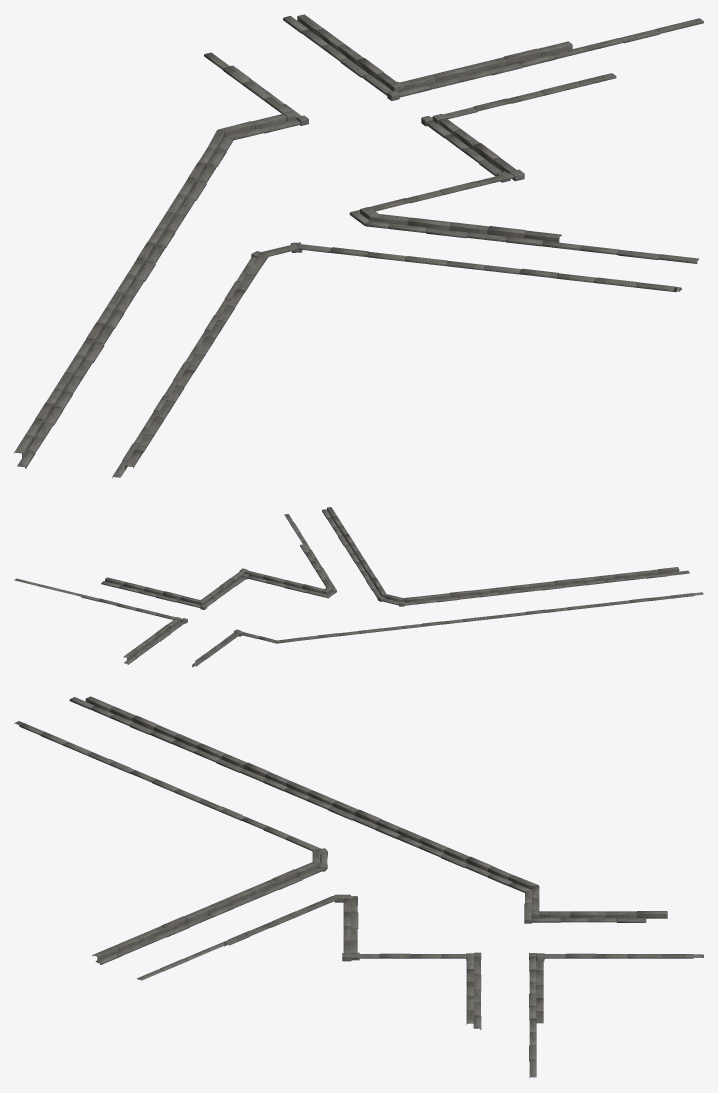
File: SM_ENV_LKNVLD_Ground_Right_SideTrimOuter_02.FBX
3 renders of one model, top to bottom at view 1: azimuth 30°, elevation 25°; view 2: azimuth 150°, elevation 25°; view 3: azimuth 270°, elevation 25°, orthographic. The views are drawn at different scales.
Parts seen in each view (by area): view 1: SM_ENV_LKNVLD_Ground_Right_SideTrimOuter_02; view 2: SM_ENV_LKNVLD_Ground_Right_SideTrimOuter_02; view 3: SM_ENV_LKNVLD_Ground_Right_SideTrimOuter_02.
Part boxes in pixels (<box>): SM_ENV_LKNVLD_Ground_Right_SideTrimOuter_02: <box>14,14,703,478</box>; SM_ENV_LKNVLD_Ground_Right_SideTrimOuter_02: <box>14,507,703,667</box>; SM_ENV_LKNVLD_Ground_Right_SideTrimOuter_02: <box>14,696,703,1077</box>.
Size of the model in its own units: 5795 by 50.61 by 4449.
